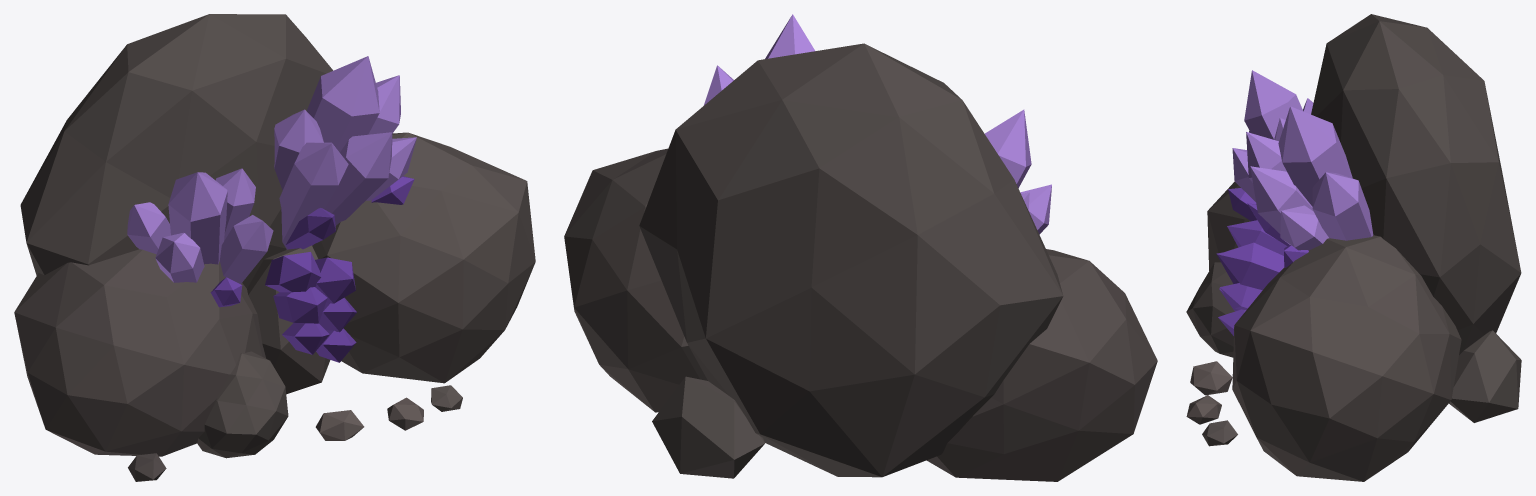
The model's file is amethyst_ore_deposit.glb.
3 renders of one model, left to right at view 1: azimuth 30°, elevation 25°; view 2: azimuth 150°, elevation 25°; view 3: azimuth 270°, elevation 25°, orthographic. The views are drawn at different scales.
Visible parts, largest first — view 1: amethyst-ore-deposit-mesh; view 2: amethyst-ore-deposit-mesh; view 3: amethyst-ore-deposit-mesh.
Part boxes in pixels (left/top/right/bottom): amethyst-ore-deposit-mesh: left=14, top=14, right=535, bottom=481; amethyst-ore-deposit-mesh: left=564, top=14, right=1157, bottom=481; amethyst-ore-deposit-mesh: left=1186, top=14, right=1521, bottom=481.
Size of the model in its own units: 1.59 by 1.1 by 0.9582.
